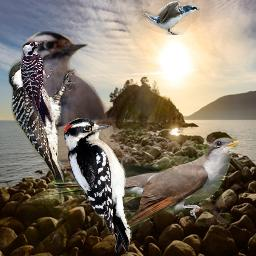Cuckoo: (49, 137, 238, 234)
Swallow: (134, 0, 200, 35)
Woodpecker: (21, 31, 198, 219), (8, 48, 79, 202), (64, 118, 132, 253), (21, 40, 52, 127)
